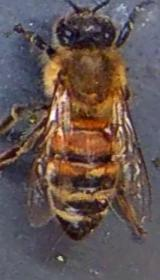varroa_mite: (100, 118, 117, 142)
